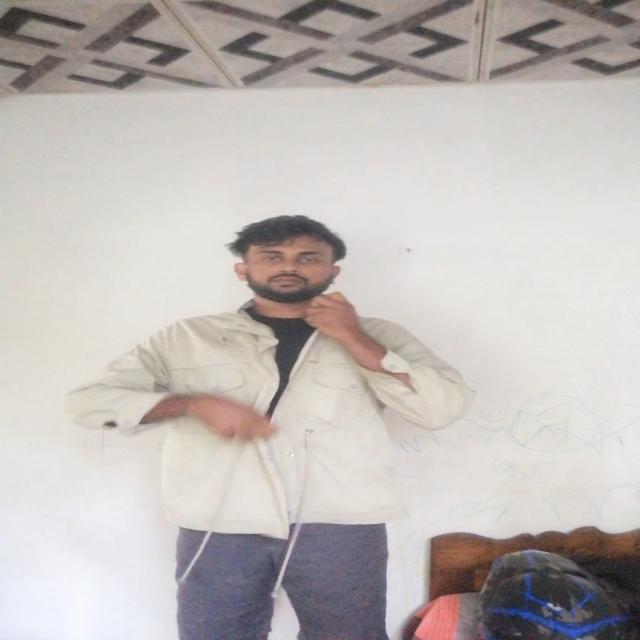Jacket_Wearer: (76, 297, 480, 515)
Person: (68, 217, 486, 632)
